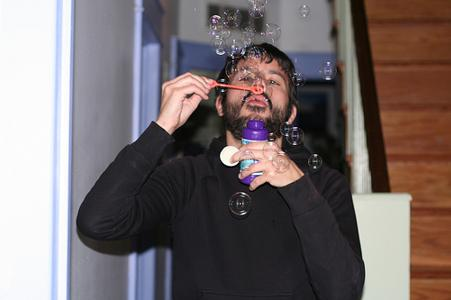person: (76, 43, 368, 300)
